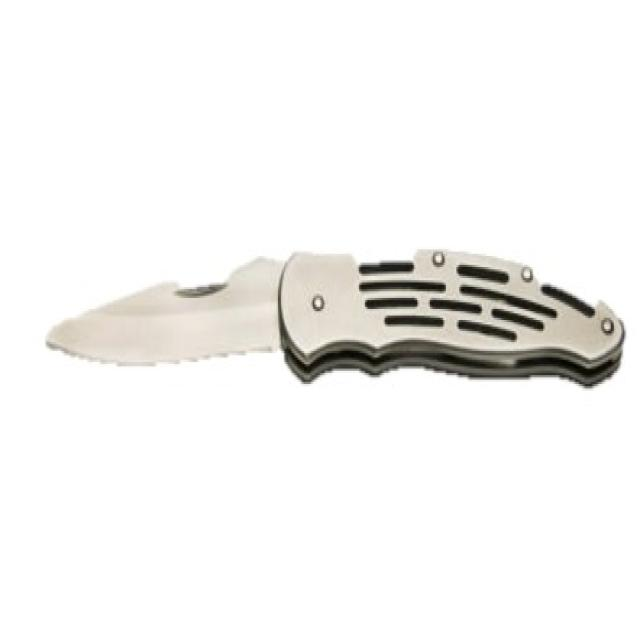knife: (42, 243, 630, 389)
